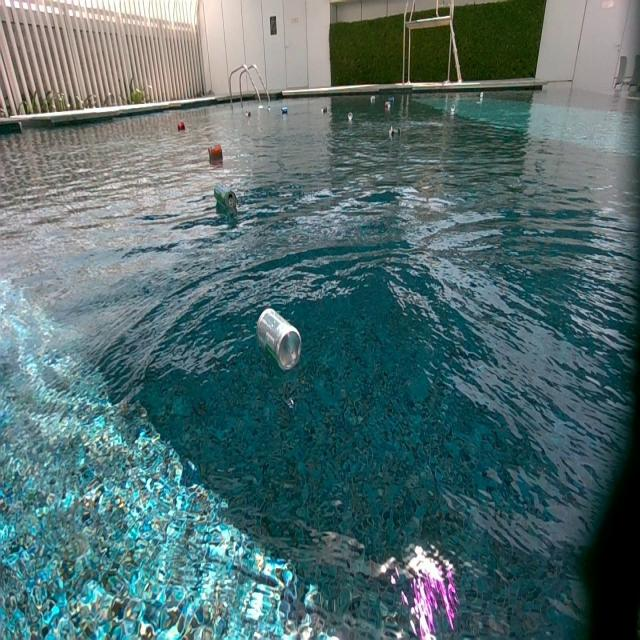Cans: (258, 307, 302, 373), (213, 182, 236, 212), (208, 144, 222, 158), (389, 128, 399, 140), (177, 119, 186, 130), (347, 111, 354, 121), (479, 93, 486, 103), (280, 107, 288, 115), (321, 106, 328, 115), (368, 97, 375, 105), (384, 102, 391, 110), (245, 110, 252, 118), (451, 104, 457, 113), (266, 106, 272, 113)
